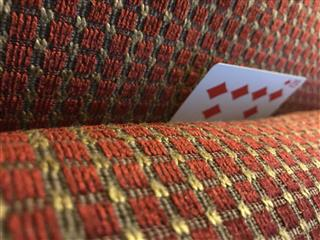TenOfDiamonds: (167, 61, 307, 122)
